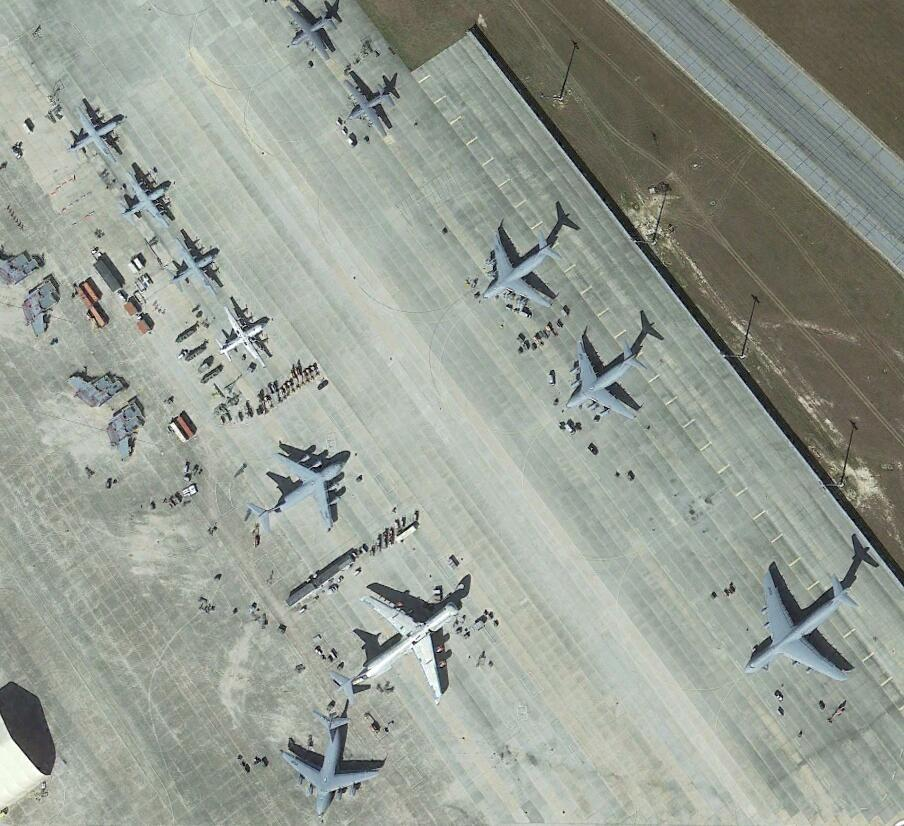A2: (215, 305, 274, 367), (339, 77, 396, 140), (66, 104, 123, 164), (282, 3, 338, 63), (115, 169, 171, 229), (170, 236, 220, 295)
A3: (280, 708, 380, 816), (241, 451, 351, 538), (479, 229, 563, 311), (563, 339, 646, 421)
A4: (327, 589, 458, 702), (742, 568, 859, 687)
